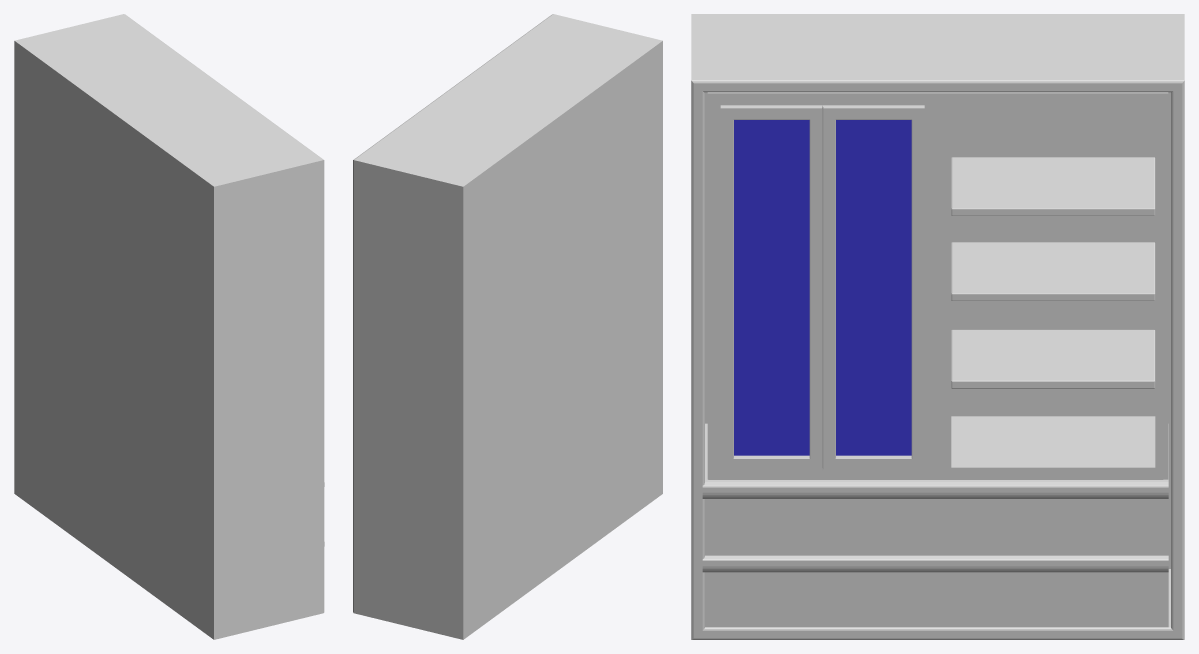
The model's file is MemoryRoom_Cupboard.fbx.
The picture shows the model from 3 angles, left to right: view 1: azimuth 30°, elevation 25°; view 2: azimuth 150°, elevation 25°; view 3: azimuth 270°, elevation 25°; orthographic projection. The views are drawn at different scales.
Parts seen in each view (by area): view 1: Cube.007; view 2: Cube.007; view 3: Cube.010, Cube.007, Cube.012, Cube.013, Cube.011, Cube.009, Cube.008.
Part boxes in pixels (box(x1,y1,x2,y2)): Cube.007: box(14, 14, 324, 639); Cube.007: box(353, 14, 662, 639); Cube.010: box(707, 92, 1168, 479); Cube.007: box(691, 14, 1184, 639); Cube.012: box(720, 105, 822, 470); Cube.013: box(822, 105, 924, 470); Cube.011: box(951, 157, 1155, 388); Cube.009: box(702, 423, 1168, 555); Cube.008: box(702, 555, 1168, 627).
Size of the model in its own units: 249 by 937 by 748.
